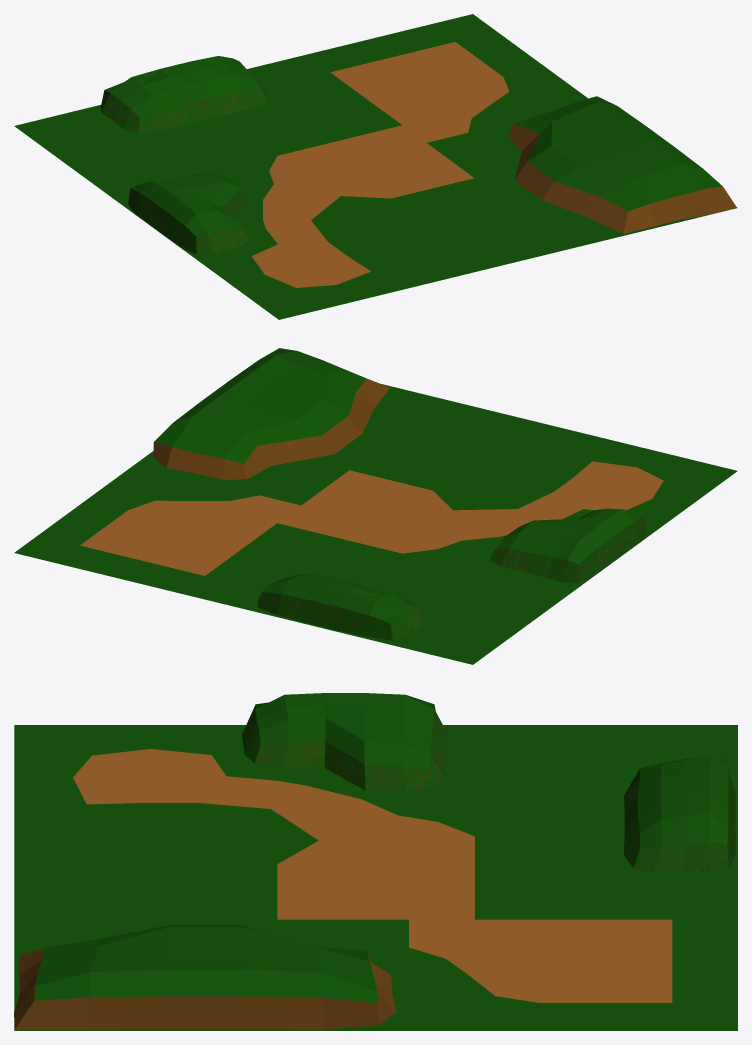
The model's file is Terrain.fbx.
3 views of the same model, one above another, from view 1: azimuth 30°, elevation 25°; view 2: azimuth 150°, elevation 25°; view 3: azimuth 270°, elevation 25° (orthographic). The views are drawn at different scales.
Visible parts, largest first — view 1: Terreno; view 2: Terreno; view 3: Terreno.
Part boxes in pixels (x1,y1,x2,y2): Terreno: [14, 14, 737, 319]; Terreno: [14, 348, 737, 664]; Terreno: [14, 693, 737, 1030].
Size of the model in its own units: 2000 by 140 by 2001.
